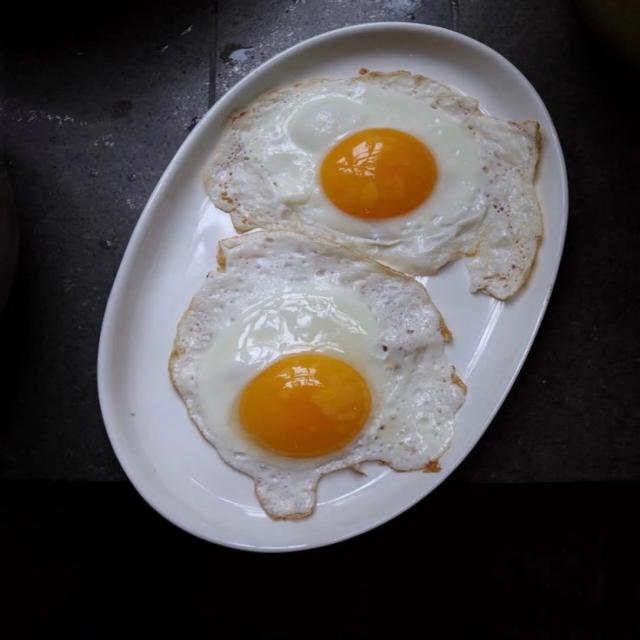fryed egg: (170, 231, 464, 518), (206, 72, 541, 299)
